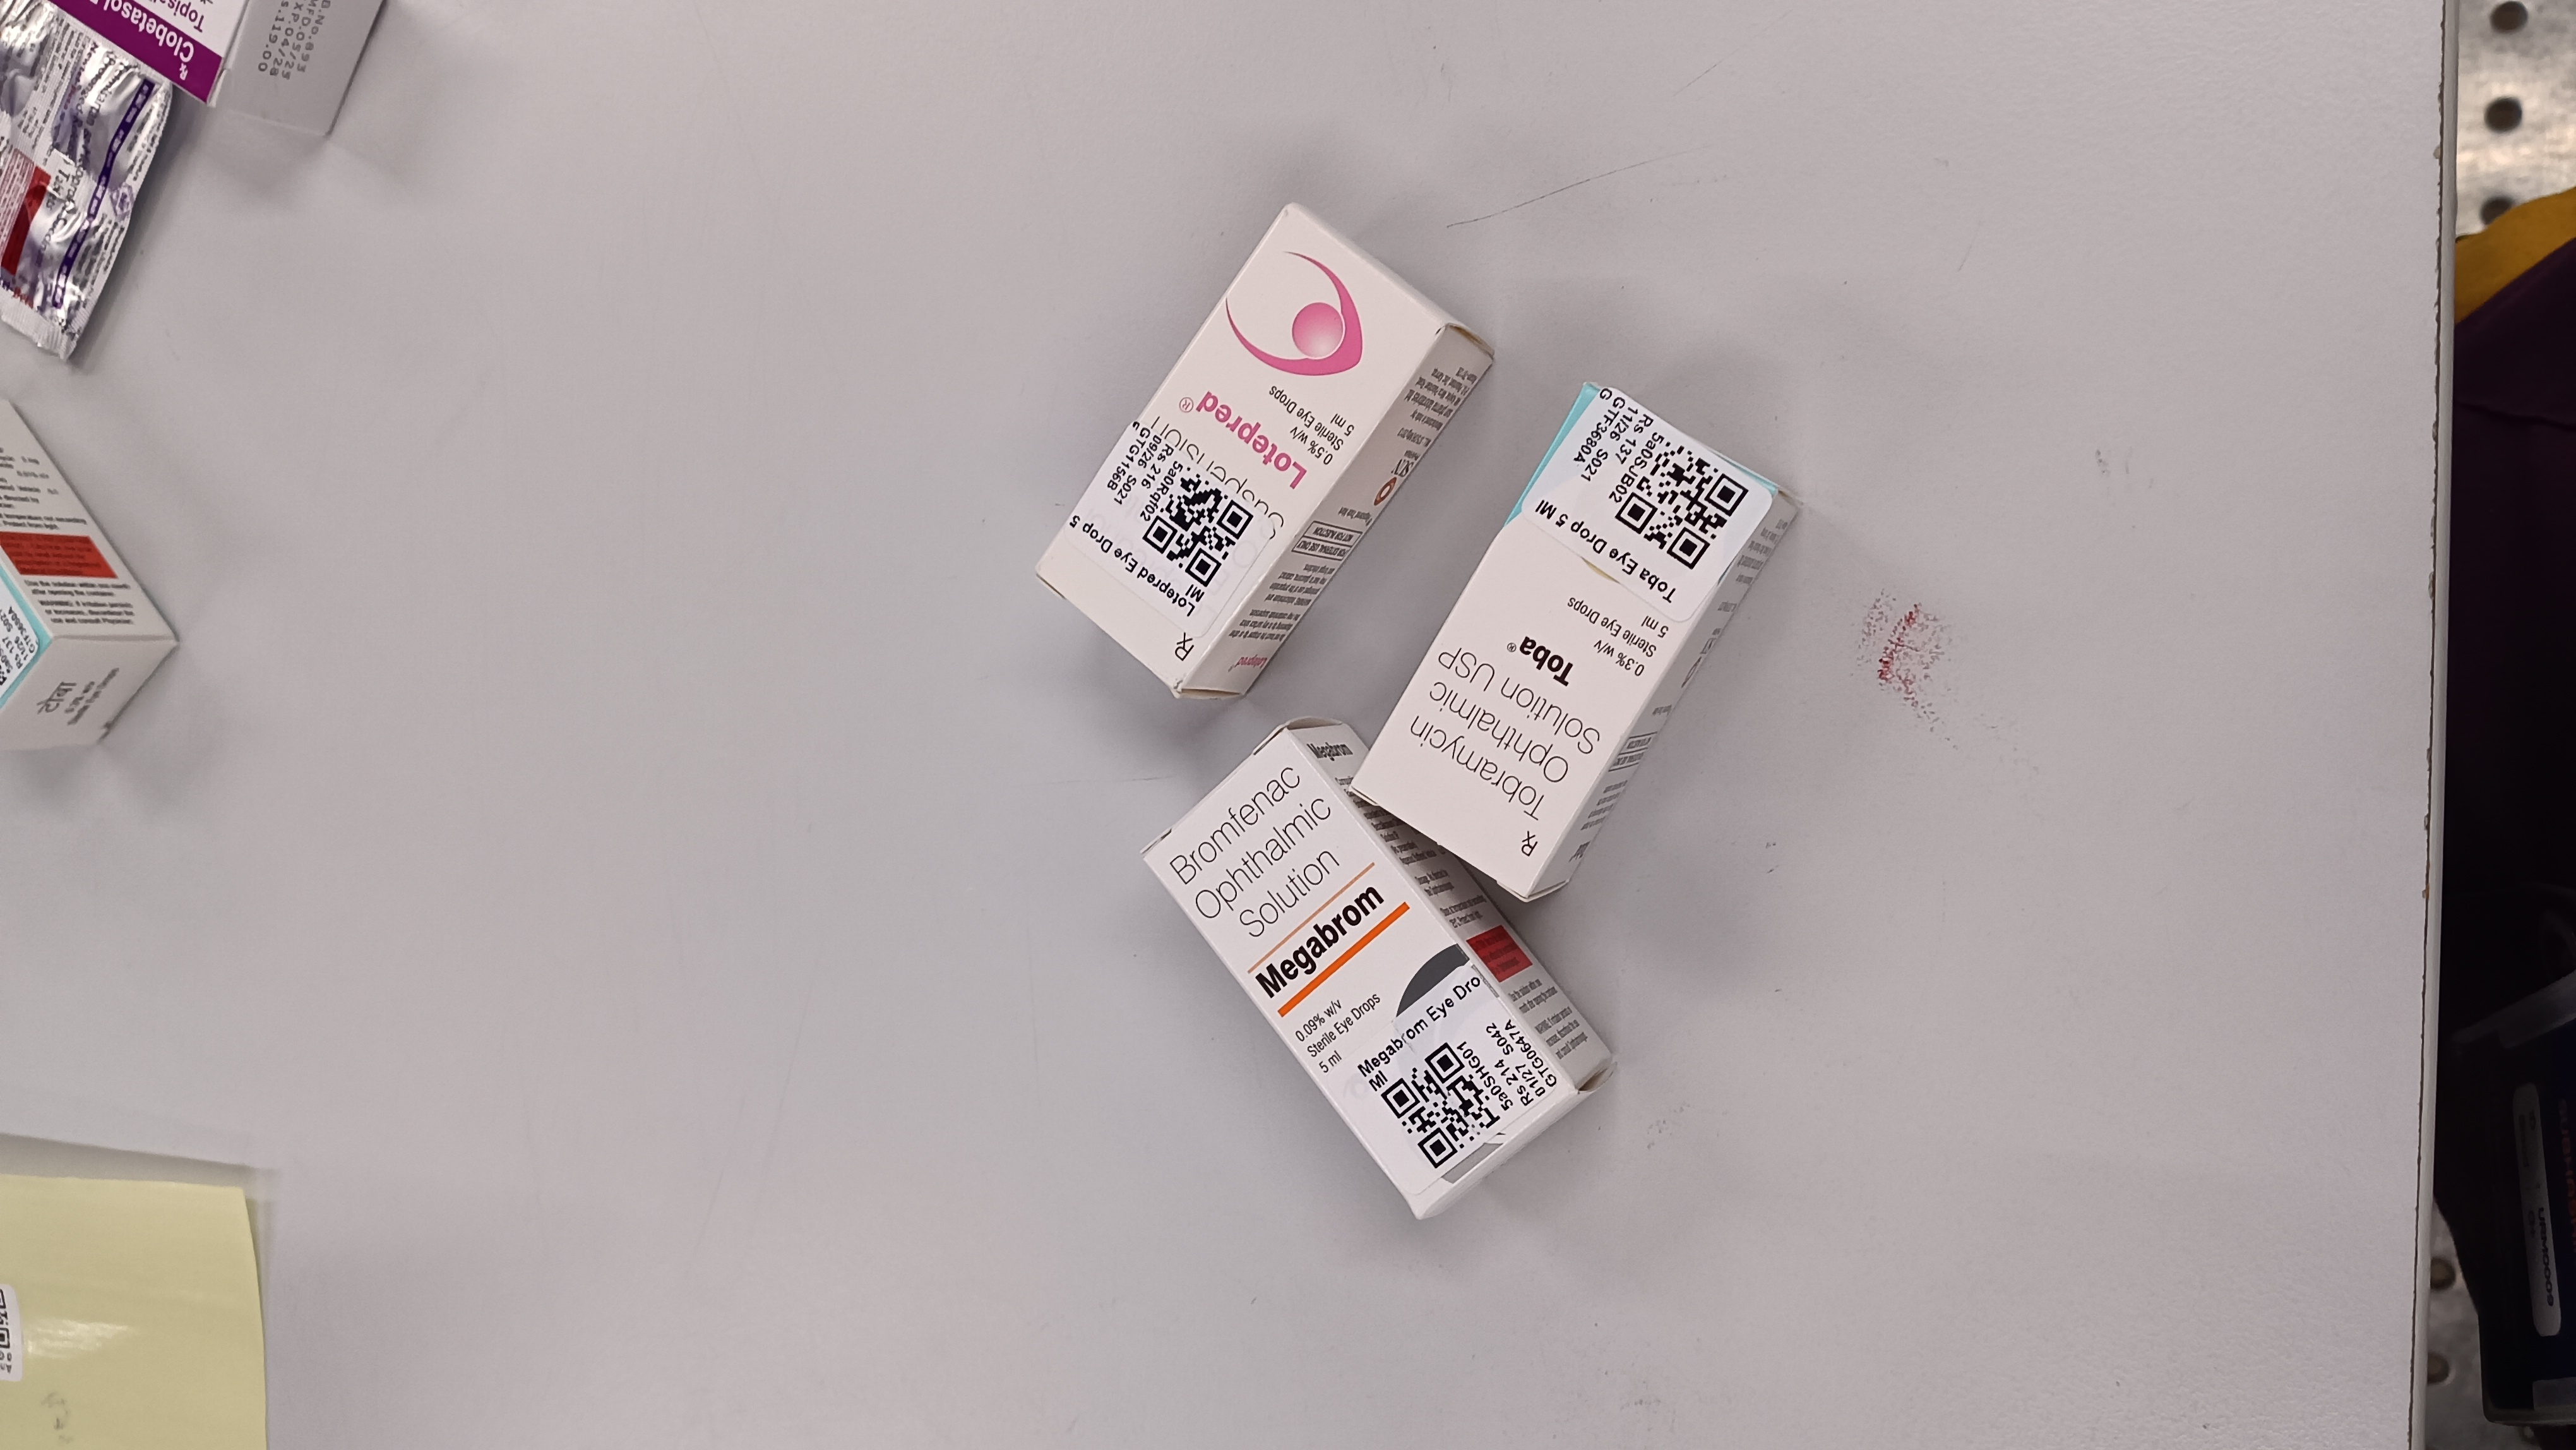QR: (1141, 404, 1253, 526)
